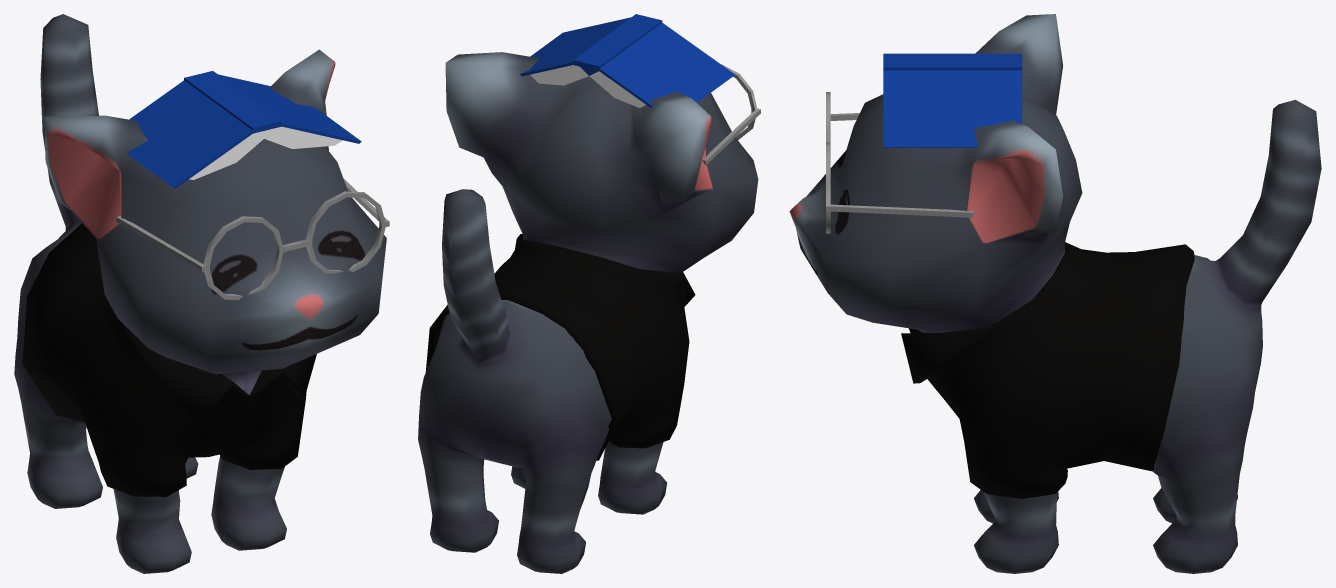
The model's file is Library Cat04.fbx.
3 views of the same model, side by side, from view 1: azimuth 30°, elevation 25°; view 2: azimuth 150°, elevation 25°; view 3: azimuth 270°, elevation 25° (orthographic). The views are drawn at different scales.
Parts seen in each view (by area): view 1: Cat_Base003, Library_Cat_Shirt, Library_Cat_BookHat, Library_Cat_Glasses; view 2: Cat_Base003, Library_Cat_Shirt, Library_Cat_BookHat, Library_Cat_Glasses; view 3: Cat_Base003, Library_Cat_Shirt, Library_Cat_BookHat, Library_Cat_Glasses.
Part boxes in pixels (x1,y1,x2,y2): Cat_Base003: (14, 14, 386, 573); Library_Cat_Shirt: (22, 223, 316, 496); Library_Cat_BookHat: (126, 71, 361, 188); Library_Cat_Glasses: (116, 178, 389, 299); Cat_Base003: (418, 52, 758, 573); Library_Cat_Shirt: (425, 234, 695, 460); Library_Cat_BookHat: (520, 14, 735, 107); Library_Cat_Glasses: (702, 64, 760, 165); Cat_Base003: (789, 14, 1321, 573); Library_Cat_Shirt: (901, 242, 1194, 498); Library_Cat_BookHat: (883, 53, 1022, 147); Library_Cat_Glasses: (826, 92, 972, 233).
Size of the model in its own units: 1.75 by 2.83 by 2.81.
5 materials, 1 textured.
